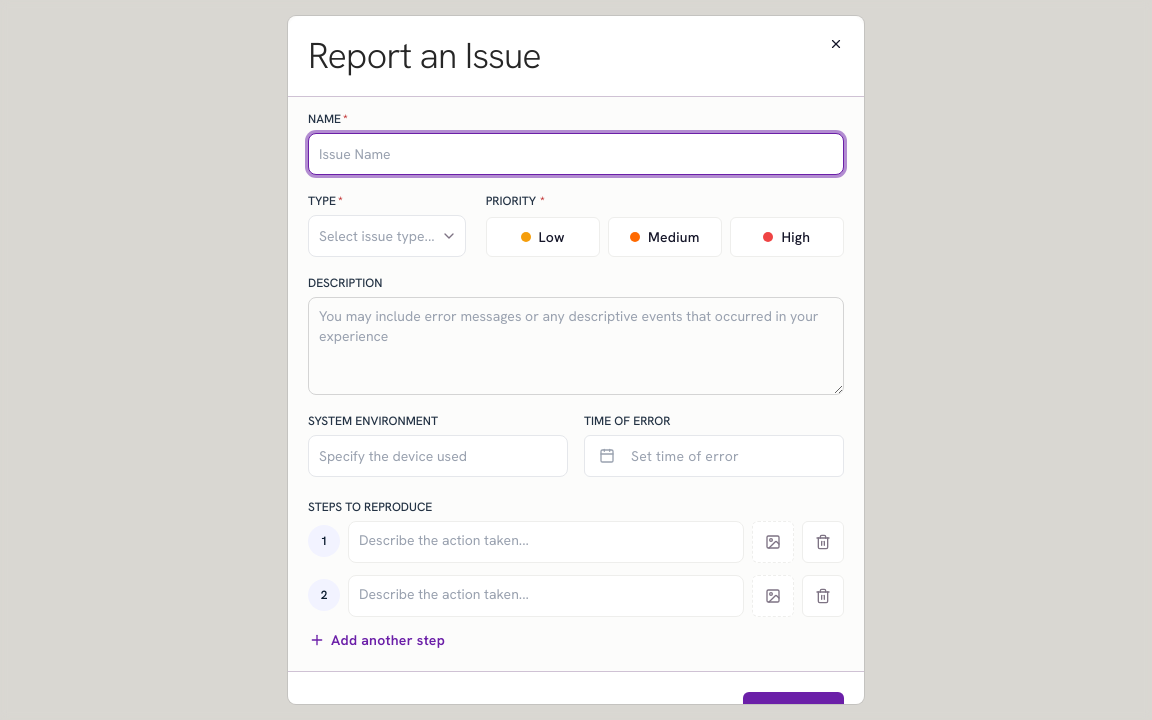
Test: IssueReportingModal (form kit) › hides steps for feature requests and requires the specific type for 'other'
// Feature request → no steps section.
Click the dropdown at (387, 236), box [308,215,466,257]
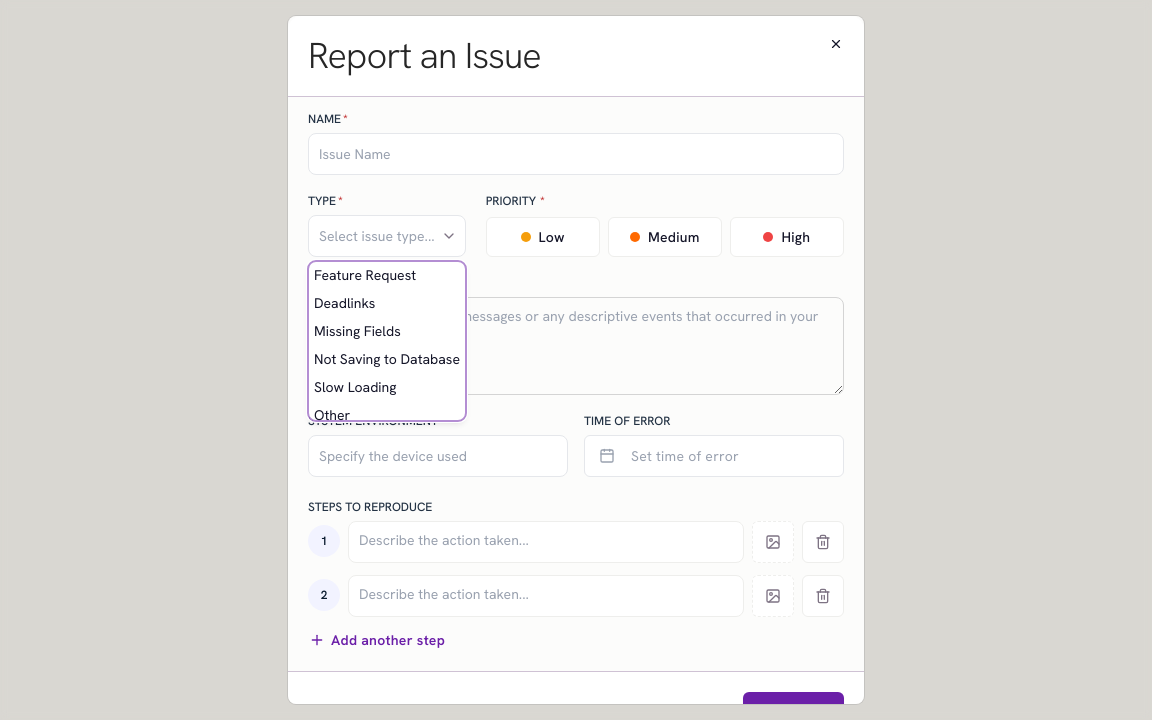
Click the option "Feature Request" at (365, 275), box [314,266,416,284]
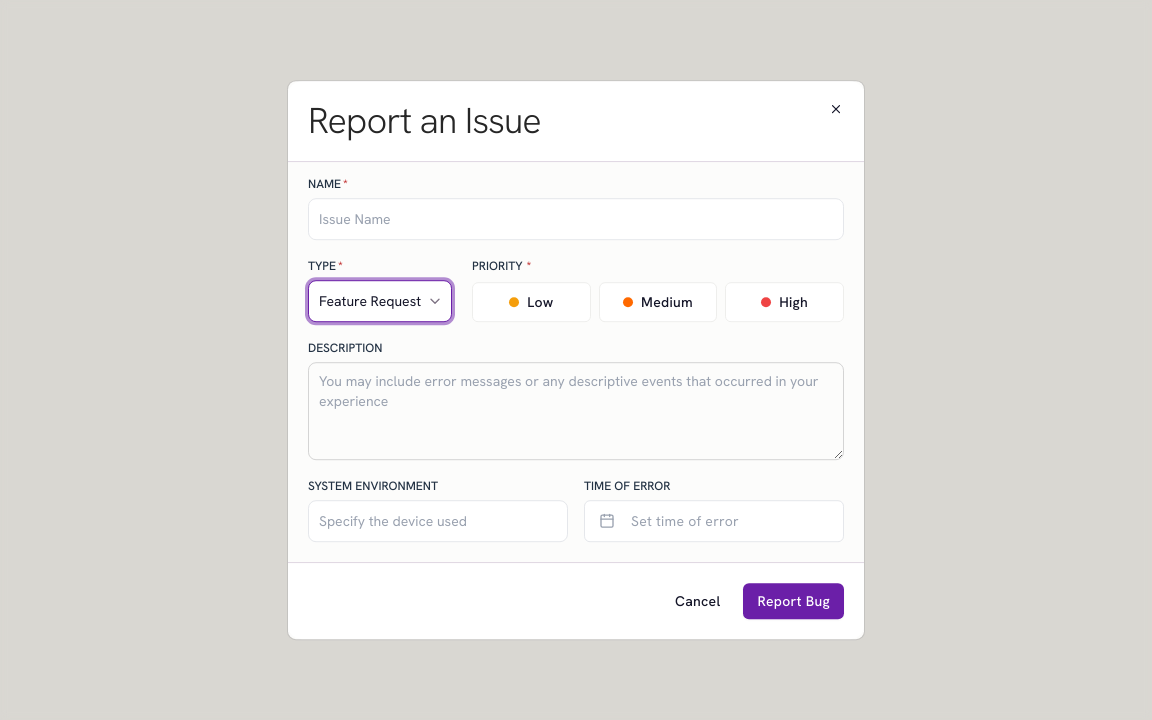
expect the text "Steps to Reproduce" is gone: met
// "Other" → specific type appears and is required.
Click the dropdown at (380, 301), box [308,280,452,322]
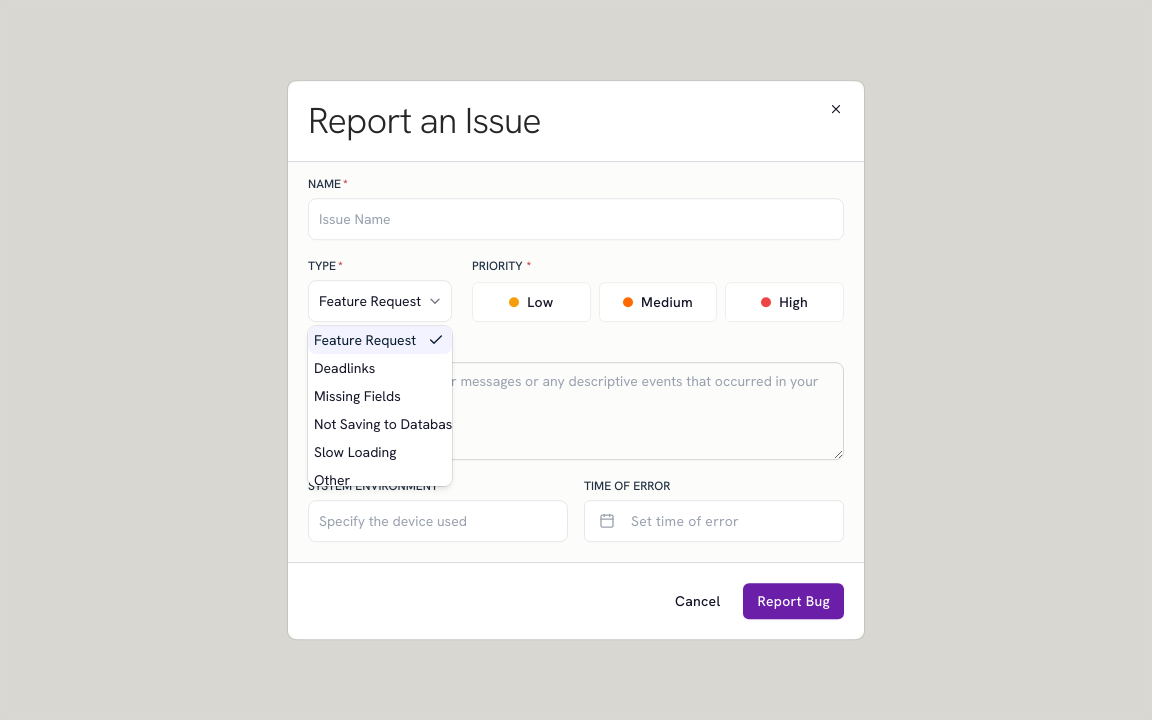
Click the option "Other" at (332, 480), box [314,471,350,489]
(page scrolled)
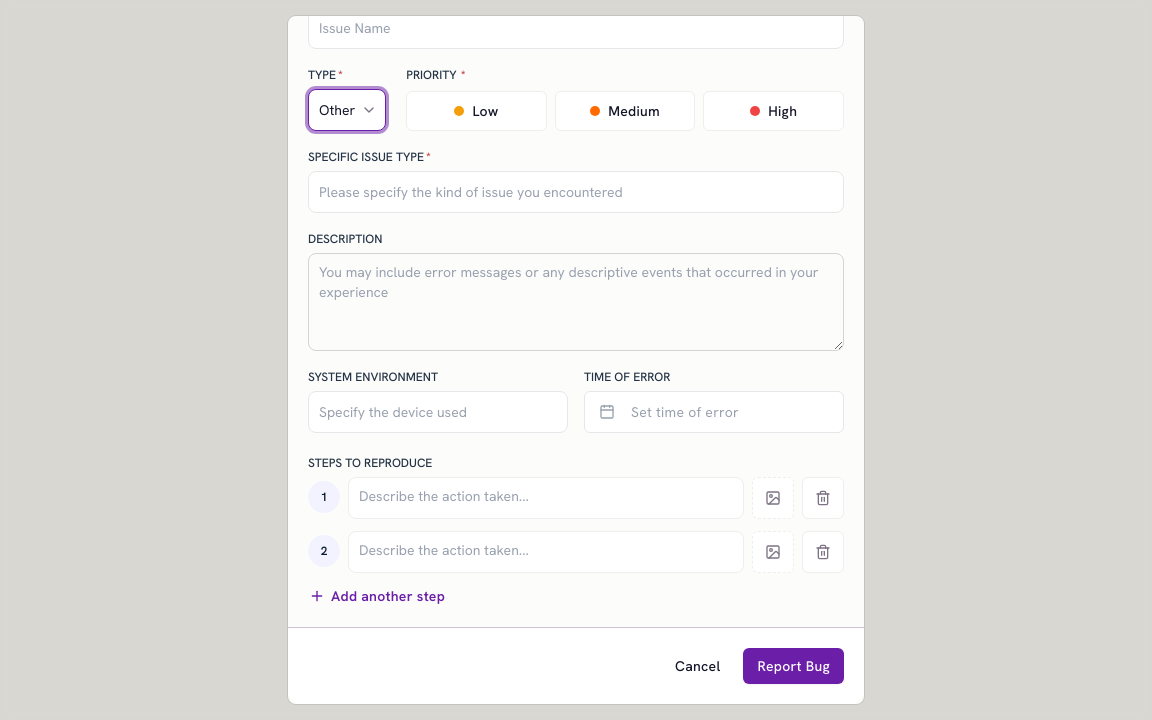
expect the field labelled "Specific Issue Type *" is shown: met, box [308,171,844,213]
Click the button "Report Bug" at (794, 666), box [744,648,844,684]
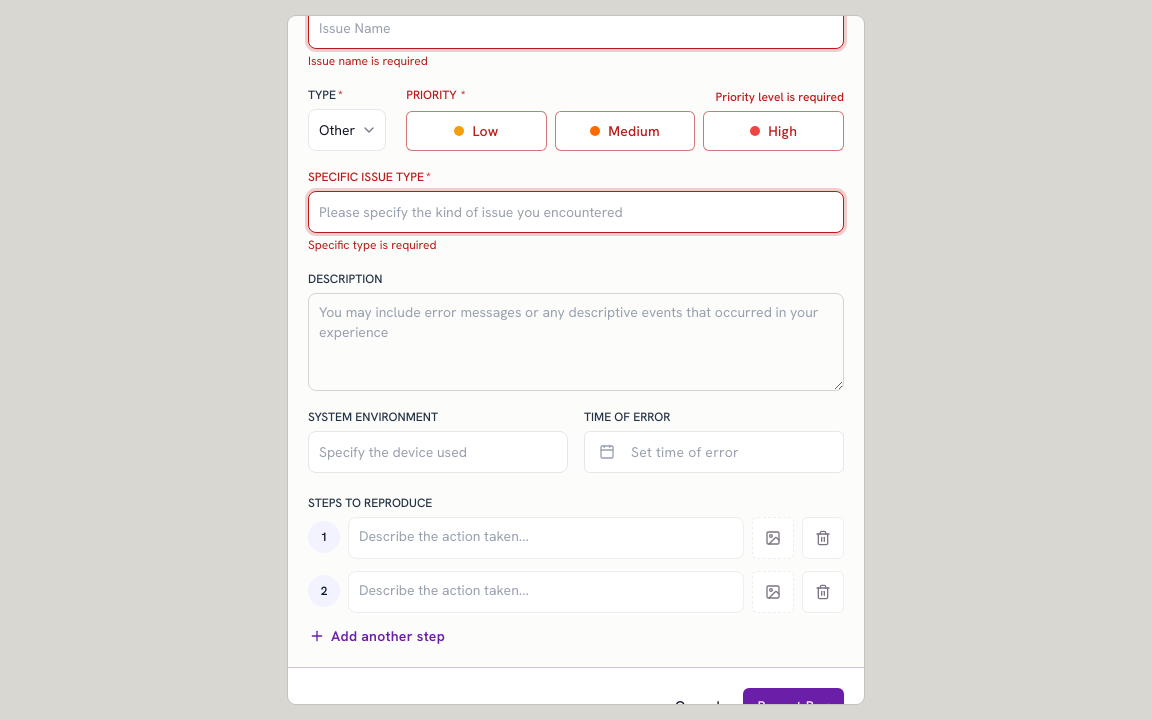
expect the text "Specific type is required" is shown: met, box [308,237,437,253]
